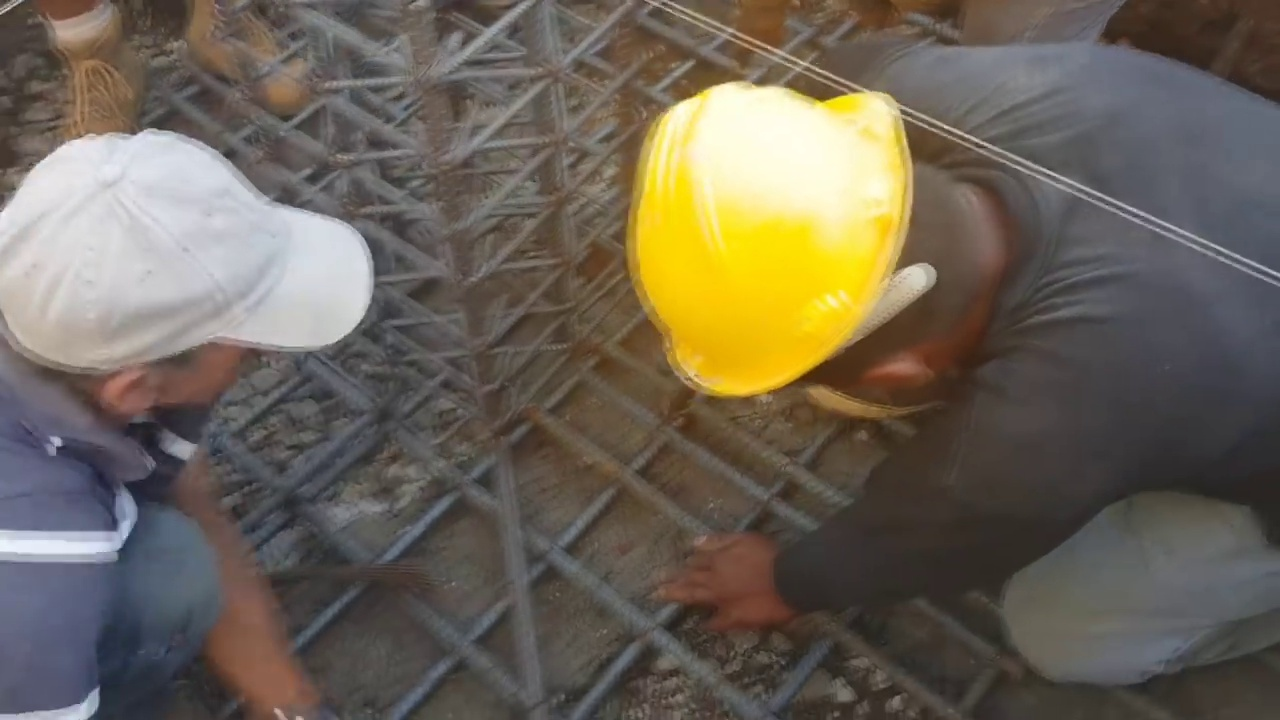helmet: (627, 84, 907, 402)
helmet-off: (6, 140, 344, 461)
helmet-on: (611, 72, 995, 412)
person: (648, 85, 1242, 720), (0, 131, 372, 719)
